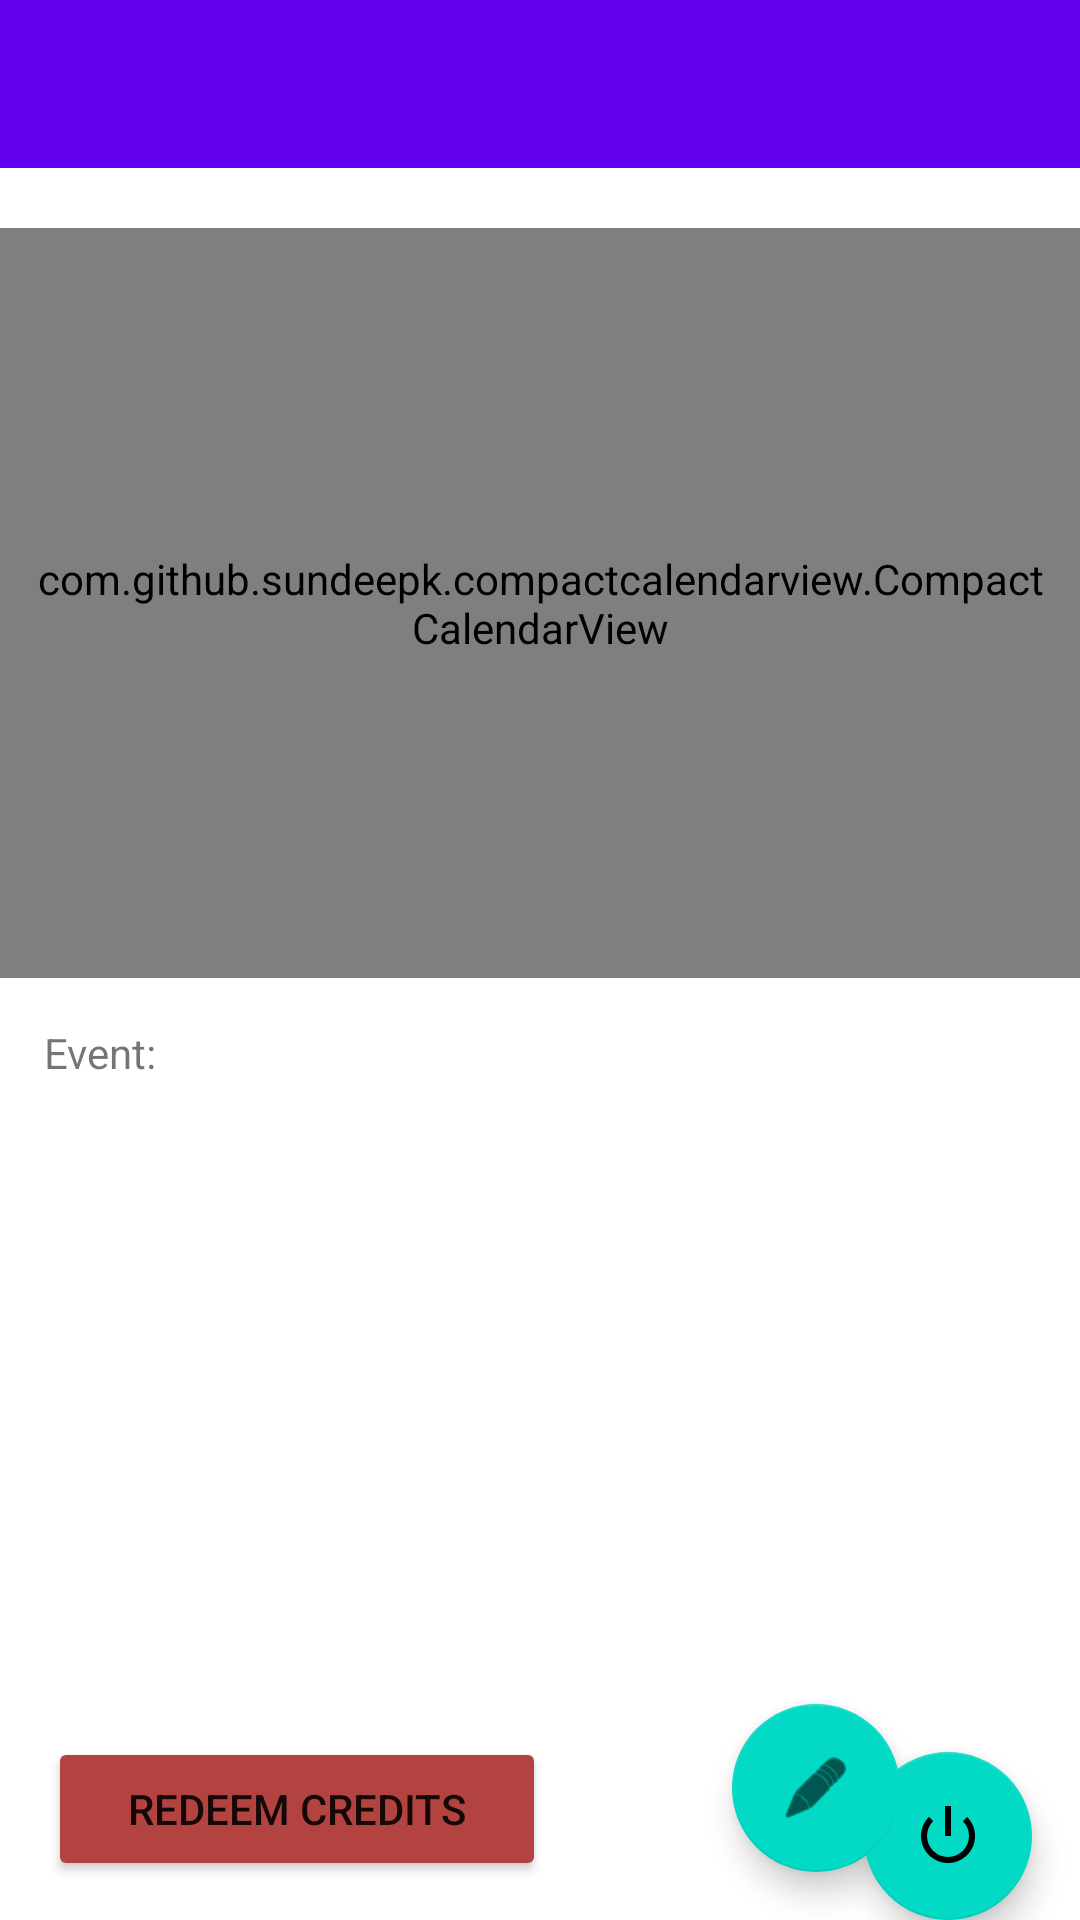

Screen size 1080 x 1920. Icon name, then its box in pixels as bbox(x1, y1, x2, y2):
edit: bbox(732, 1704, 900, 1872)
lock power off: bbox(864, 1752, 1032, 1920)
